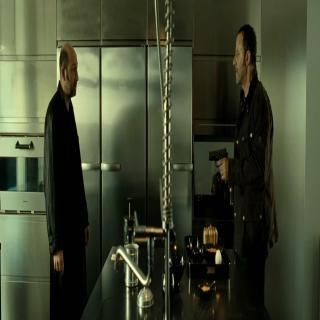gun: (206, 136, 233, 191)
